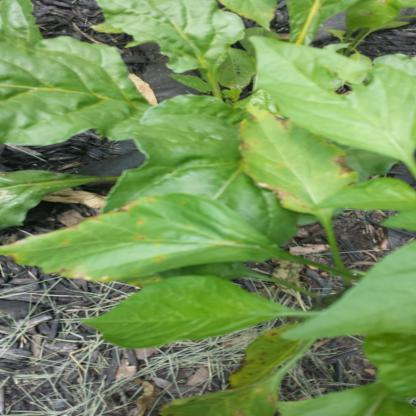Bell_pepper leaf: (0, 189, 276, 288), (230, 101, 360, 226), (151, 376, 294, 416), (232, 324, 308, 386)
